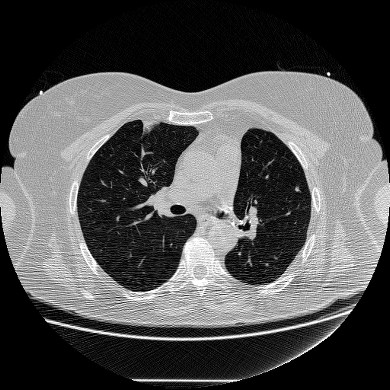nodule: (295, 187, 299, 191)
